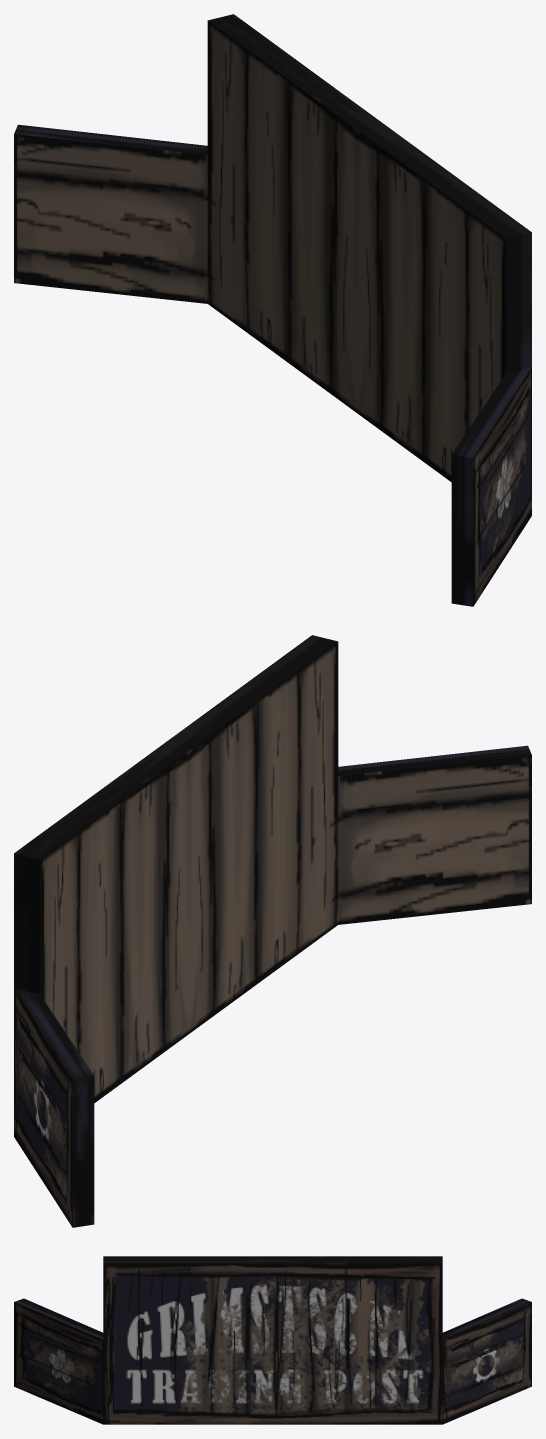
File: Sign_GeneralStore_FrontCurved.fbx
3 views of the same model, one above another, from view 1: azimuth 30°, elevation 25°; view 2: azimuth 150°, elevation 25°; view 3: azimuth 270°, elevation 25° (orthographic). The views are drawn at different scales.
Parts seen in each view (by area): view 1: pCube575; view 2: pCube575; view 3: pCube575.
Part boxes in pixels (bbox=[...]): pCube575: bbox=[14, 14, 531, 606]; pCube575: bbox=[14, 635, 531, 1227]; pCube575: bbox=[14, 1256, 531, 1424].
Size of the model in its own units: 2.88 by 5.21 by 15.17.
